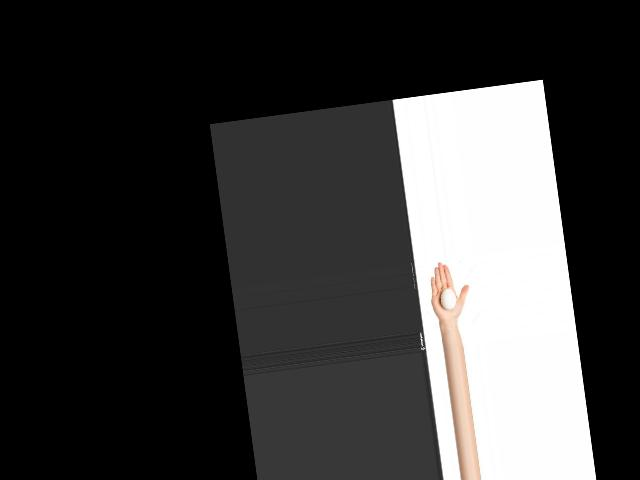egg: (439, 287, 456, 310)
